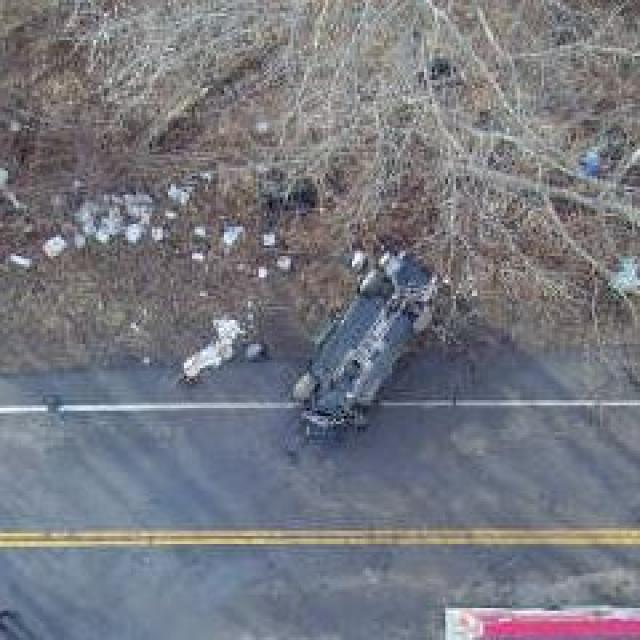traffic_incident: (288, 253, 437, 443)
